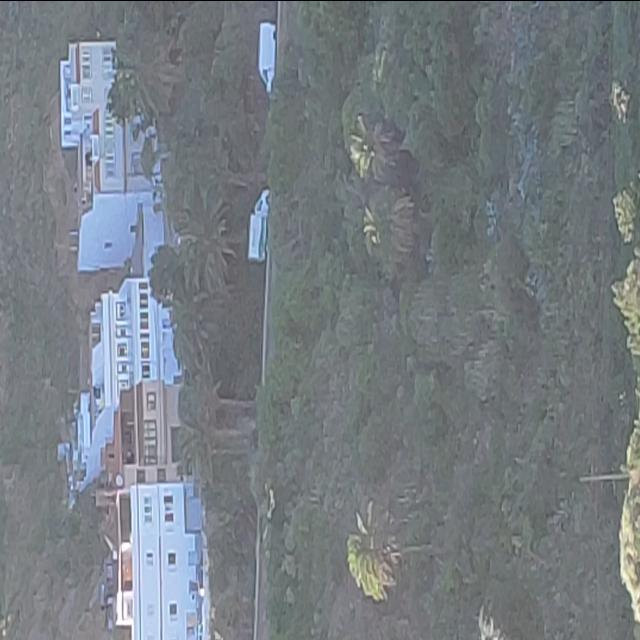Palm-Trees: (342, 504, 436, 604), (177, 396, 258, 477), (362, 178, 424, 272), (348, 110, 414, 184)
